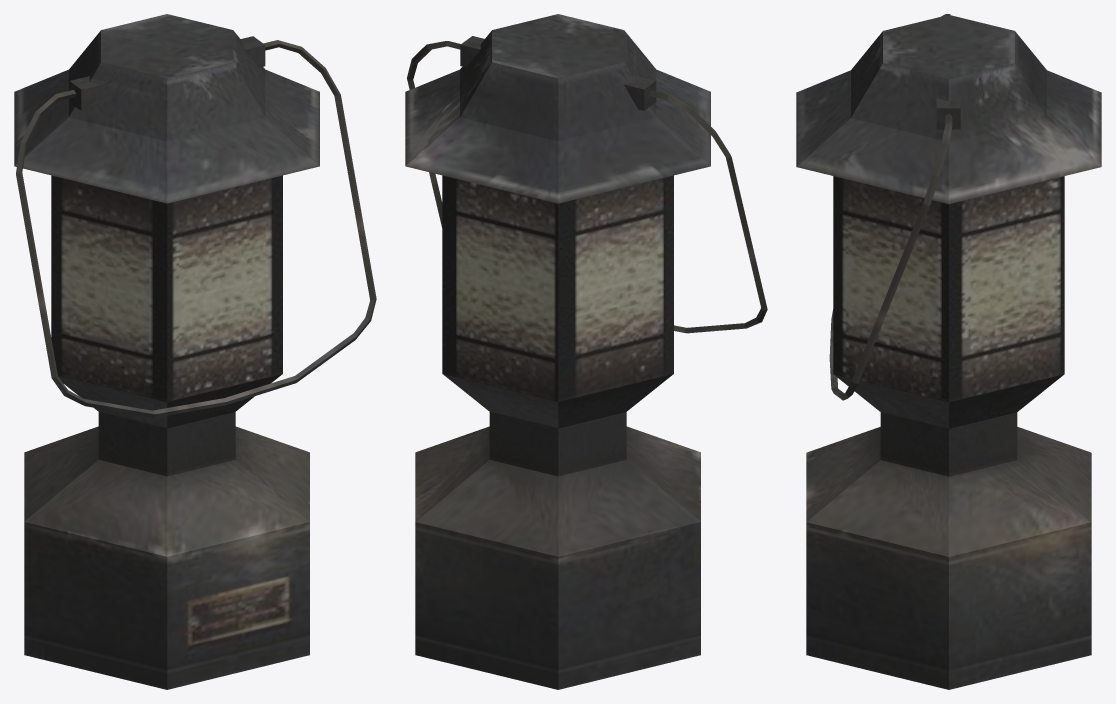
The model's file is Lamp.FBX.
3 renders of one model, left to right at view 1: azimuth 30°, elevation 25°; view 2: azimuth 150°, elevation 25°; view 3: azimuth 270°, elevation 25°, orthographic.
Parts seen in each view (by area): view 1: Lamp; view 2: Lamp; view 3: Lamp.
Part boxes in pixels (left/top/right/bottom): Lamp: left=14, top=14, right=376, bottom=689; Lamp: left=405, top=14, right=767, bottom=689; Lamp: left=796, top=14, right=1101, bottom=689.
Size of the model in its own units: 7.72 by 6.29 by 13.02.
